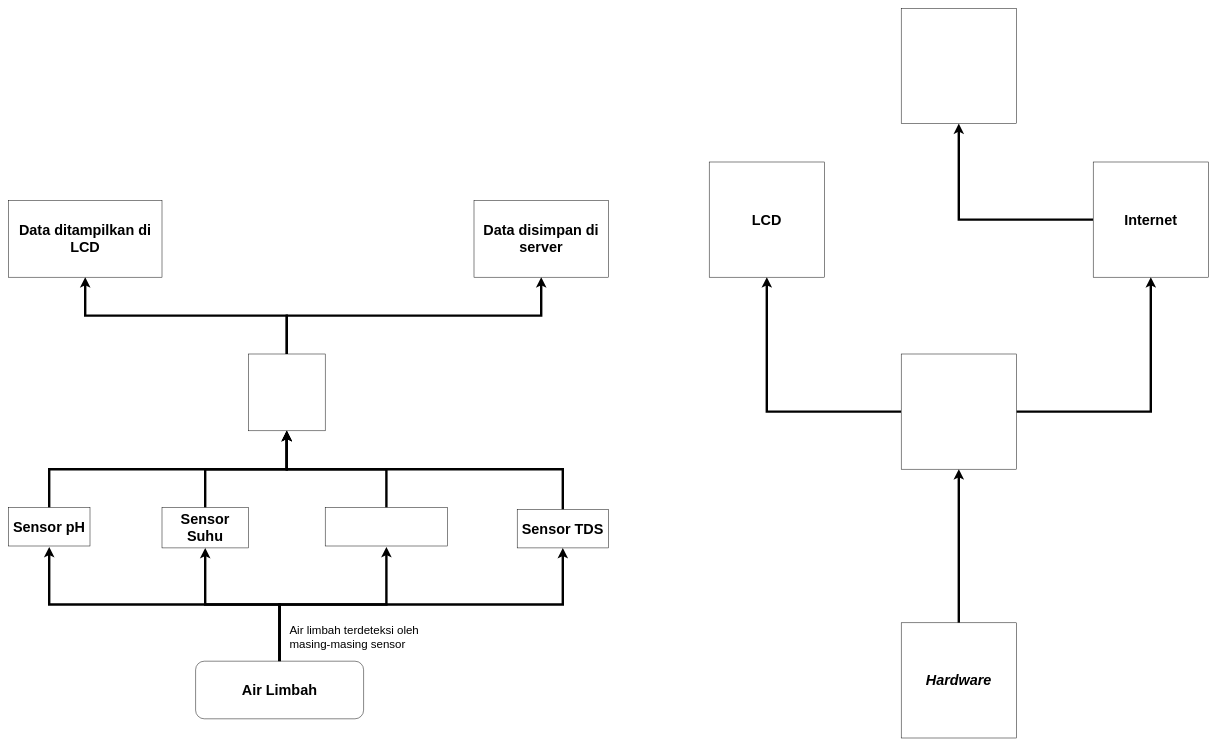
The diagram is 1217 pixels wide and 746 high, and some of its shapes have lost their labels. Here are the shapes that lost their labels. From the top down, the centre of each, then its label:
At (x=958, y=66): "Database WEB".
At (x=286, y=392): "Arduino UNO".
At (x=958, y=411): "Sistem Pelci".
At (x=386, y=526): "Sensor Kekeruhan Air".
